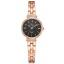watch: (20, 16, 45, 40)
